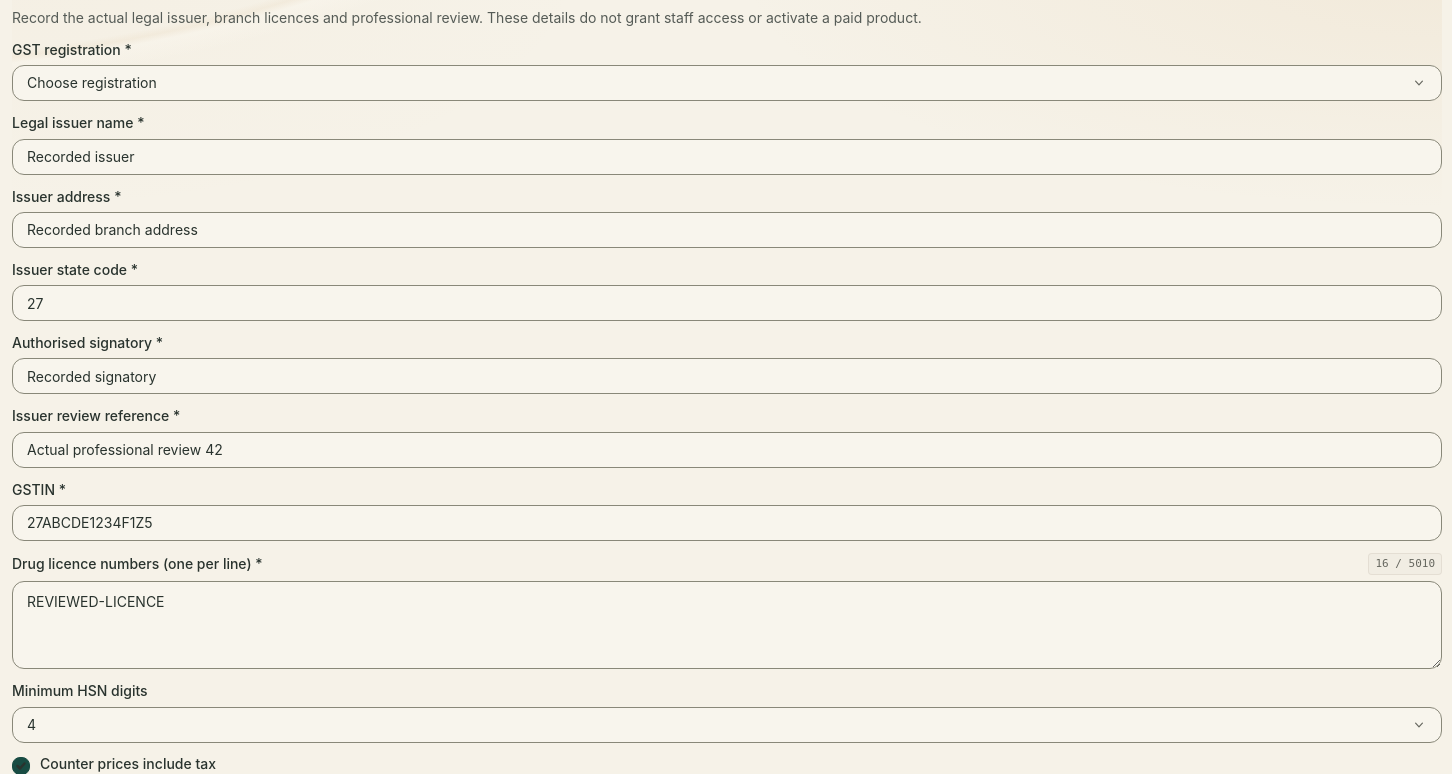
Test case: saves reviewed values against the loaded revision and excludes response metadata
The image size is (1452, 774).
Check: the field showing "Recorded issuer" is shown, box [12,138,1442,174]
Replace the text in the field labelled "Issuer review reference *" with "  Actual review 43  ": (727, 450) [12,432,1442,468]
(page scrolled)
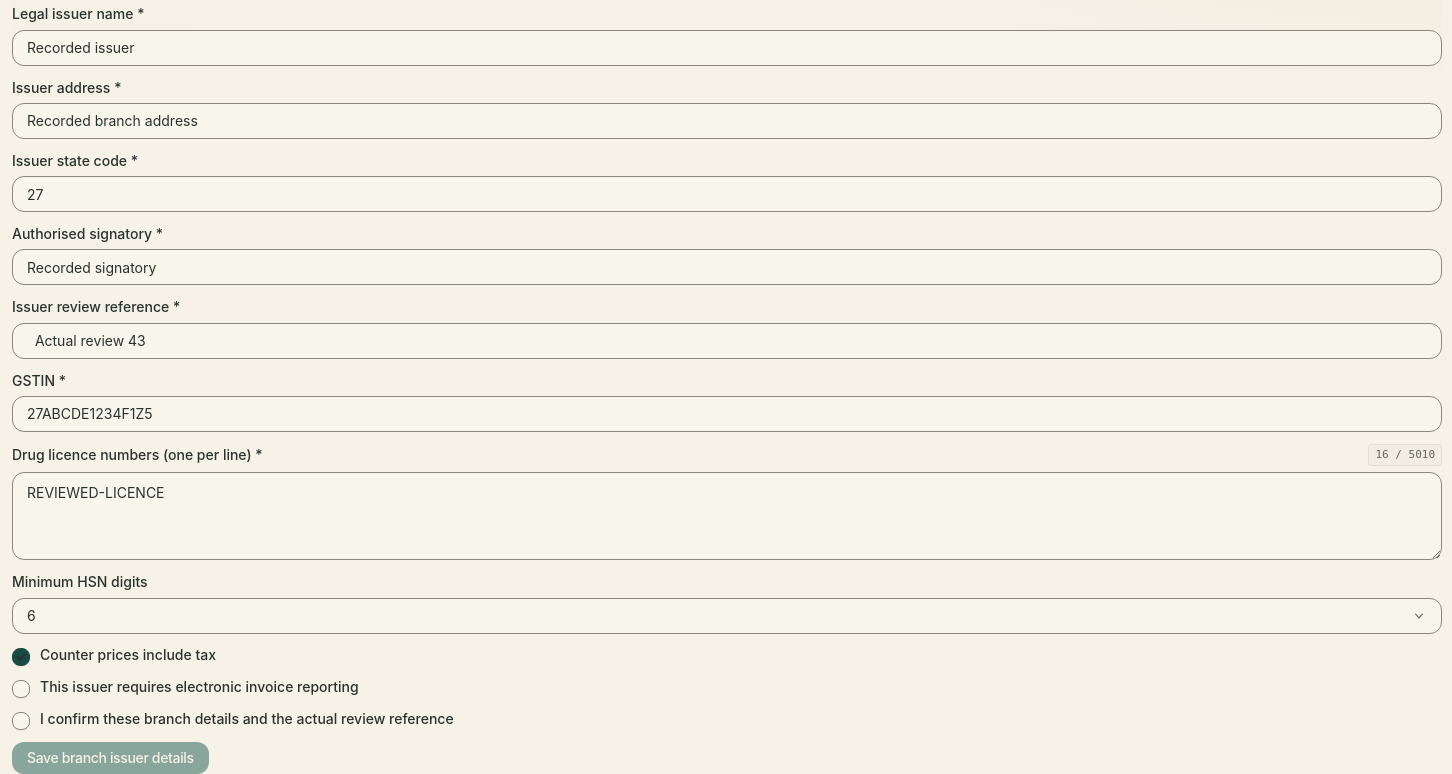
Click the checkbox labelled "I confirm these branch details and the actual review reference": (233, 720) [12,710,454,730]
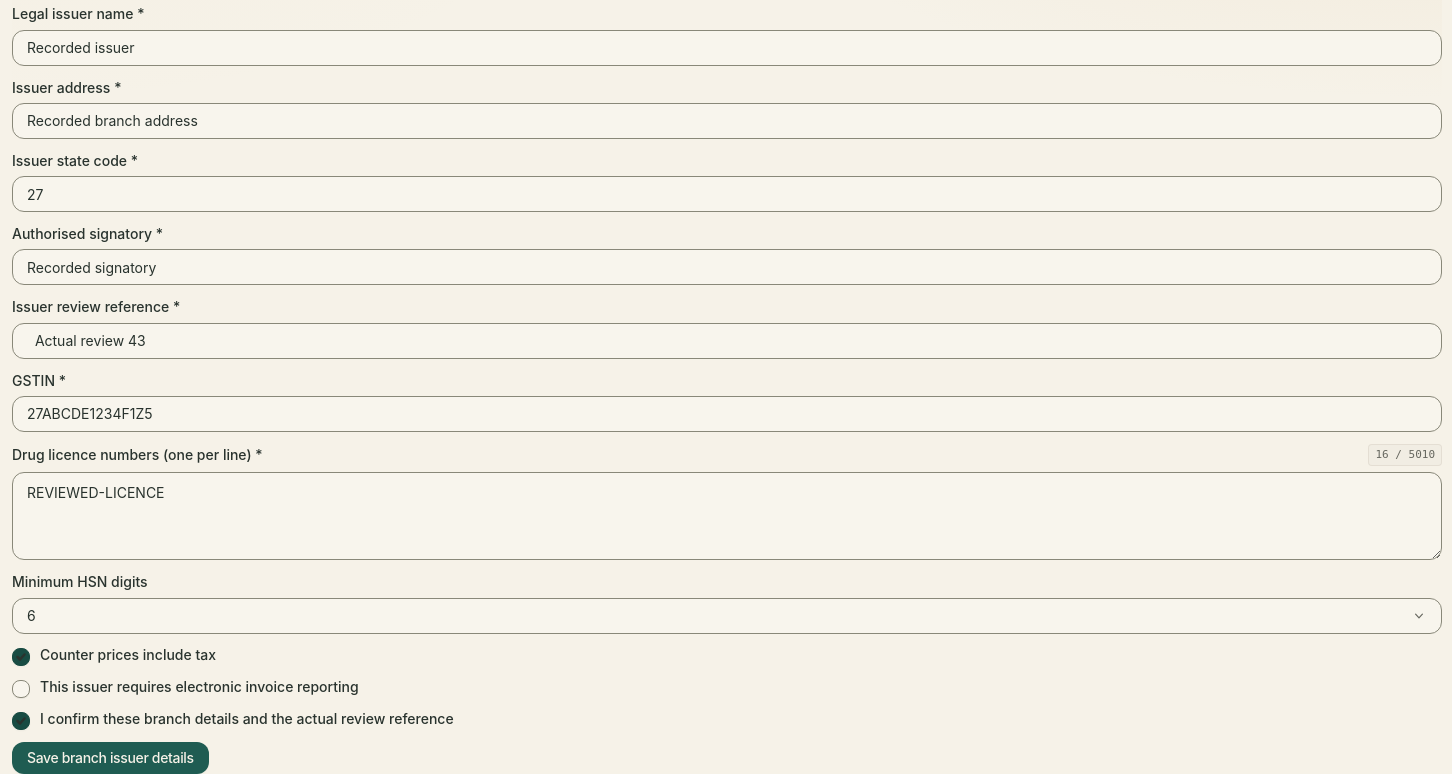
Click the button "Save branch issuer details": (110, 758) [12,742,209,773]
(page scrolled)
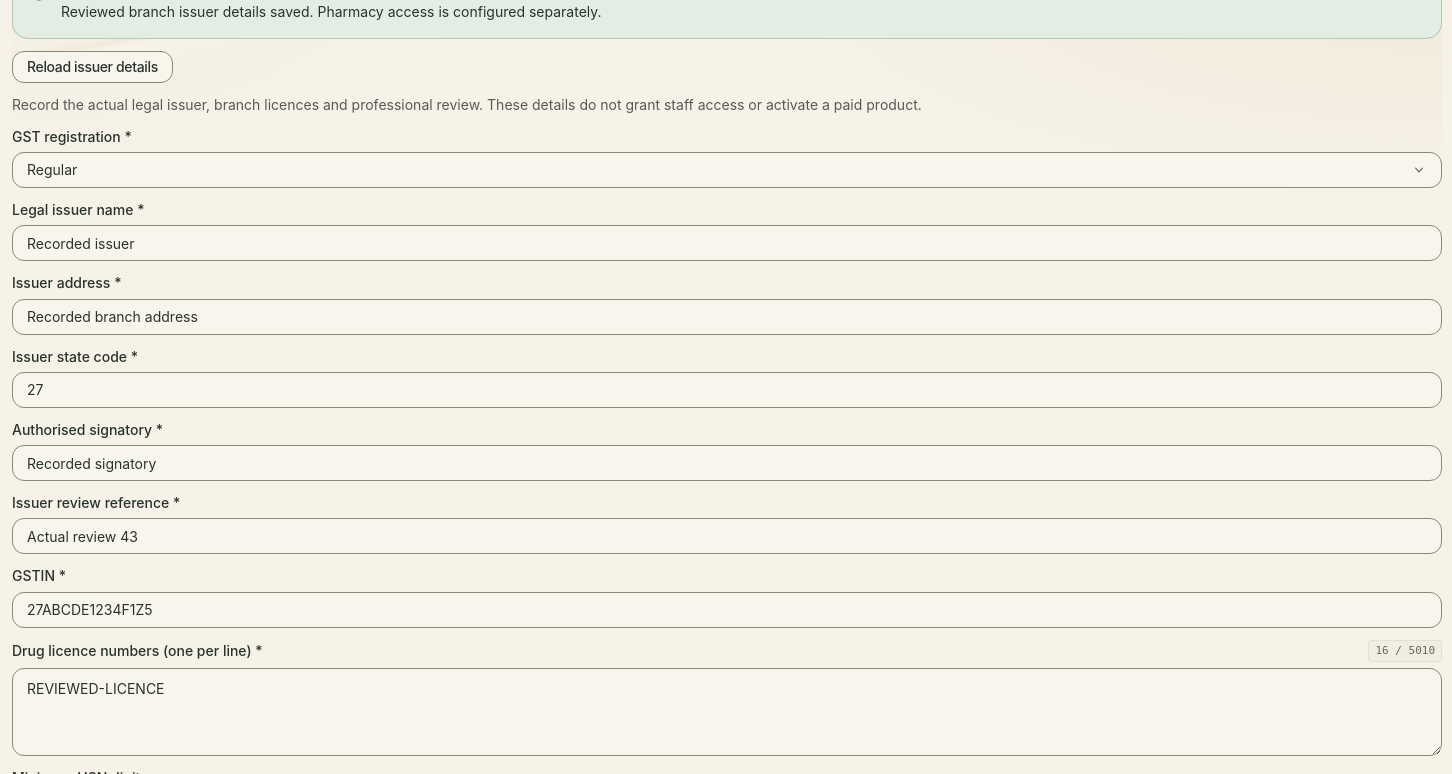
Check: the text "Reviewed branch issuer details saved. Pharmacy access is configured separately." is shown, box [61,3,602,20]
